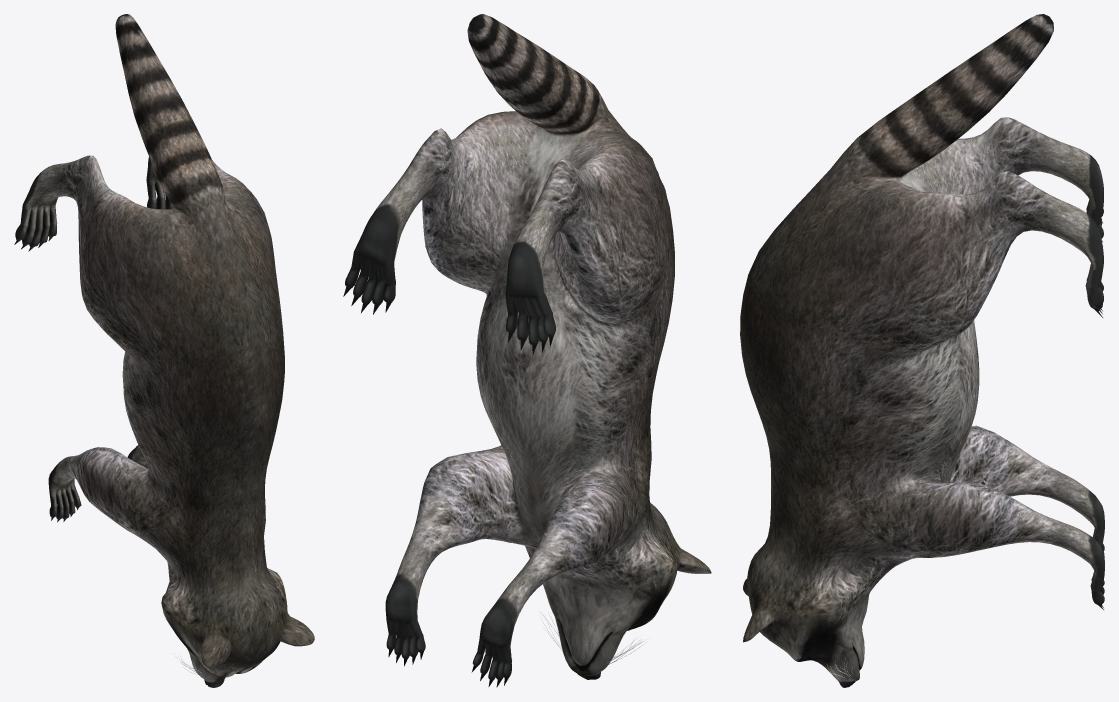
Rendered from racoon.glb.
The picture shows the model from 3 angles, left to right: view 1: azimuth 30°, elevation 25°; view 2: azimuth 150°, elevation 25°; view 3: azimuth 270°, elevation 25°; orthographic projection. The views are drawn at different scales.
Parts seen in each view (by area): view 1: racoon; view 2: racoon; view 3: racoon.
Part boxes in pixels (bbox=[...]): racoon: bbox=[14, 14, 314, 687]; racoon: bbox=[343, 14, 711, 687]; racoon: bbox=[740, 14, 1104, 687].
Bounding box in the file's own units: 18.44 × 62.92 × 30.95.
1 material, 1 textured.
